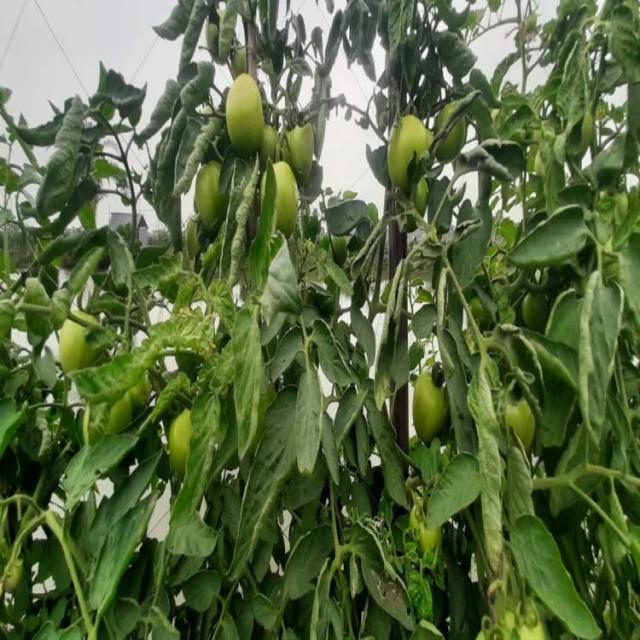tomato: (411, 365, 455, 441), (260, 166, 309, 232), (224, 73, 262, 154), (386, 110, 430, 175), (57, 317, 98, 373), (436, 104, 474, 162), (195, 159, 225, 232), (506, 394, 544, 451), (168, 397, 195, 469), (411, 504, 441, 555), (291, 123, 320, 165), (579, 106, 598, 156), (414, 178, 433, 209), (265, 122, 280, 157)
